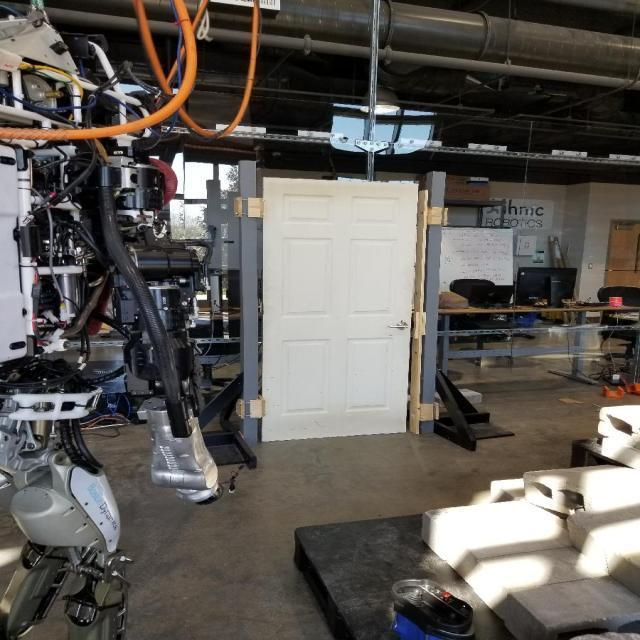door: (259, 174, 419, 446), (386, 318, 414, 336)
